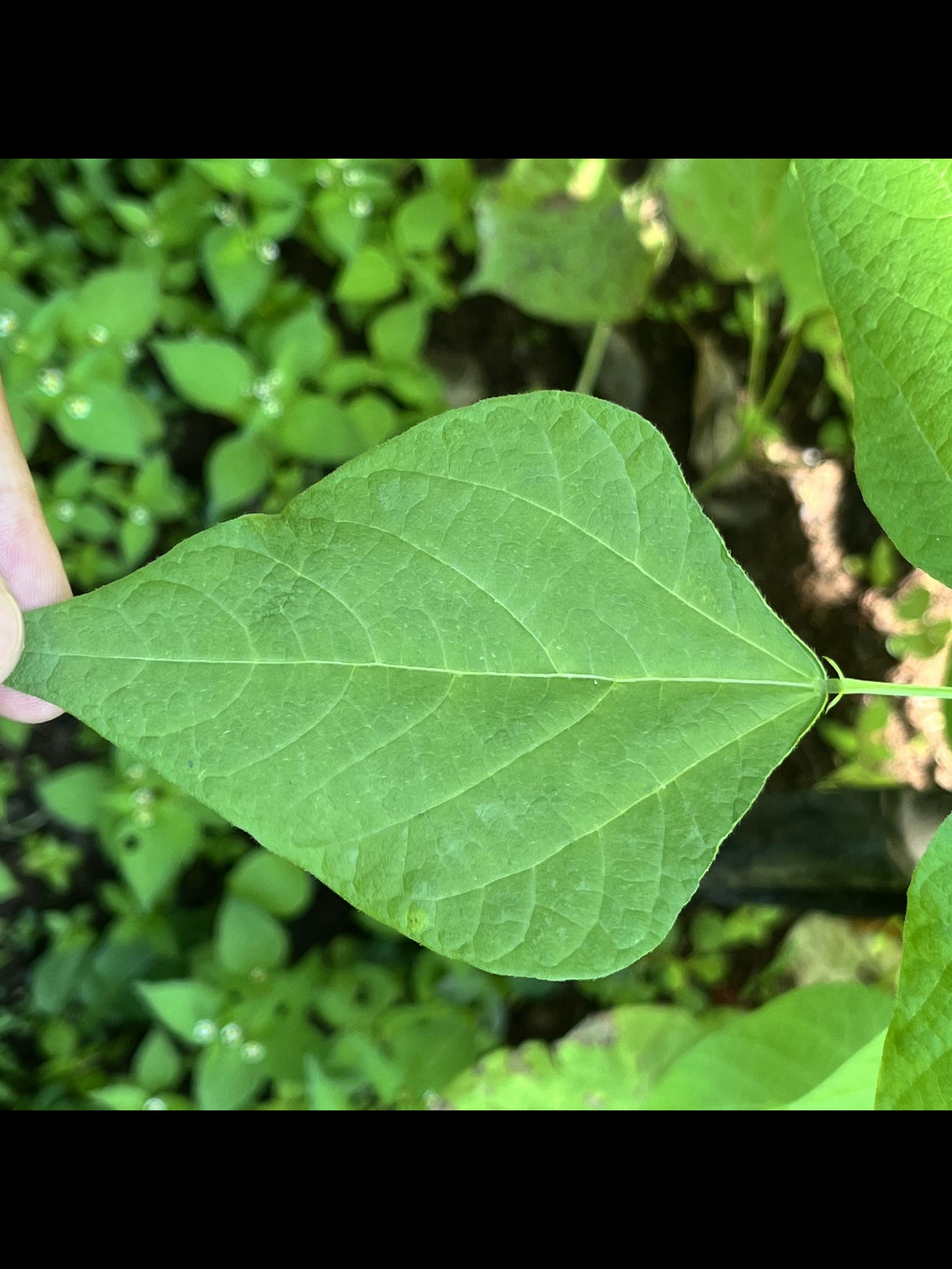sehat: (1, 386, 836, 980)
